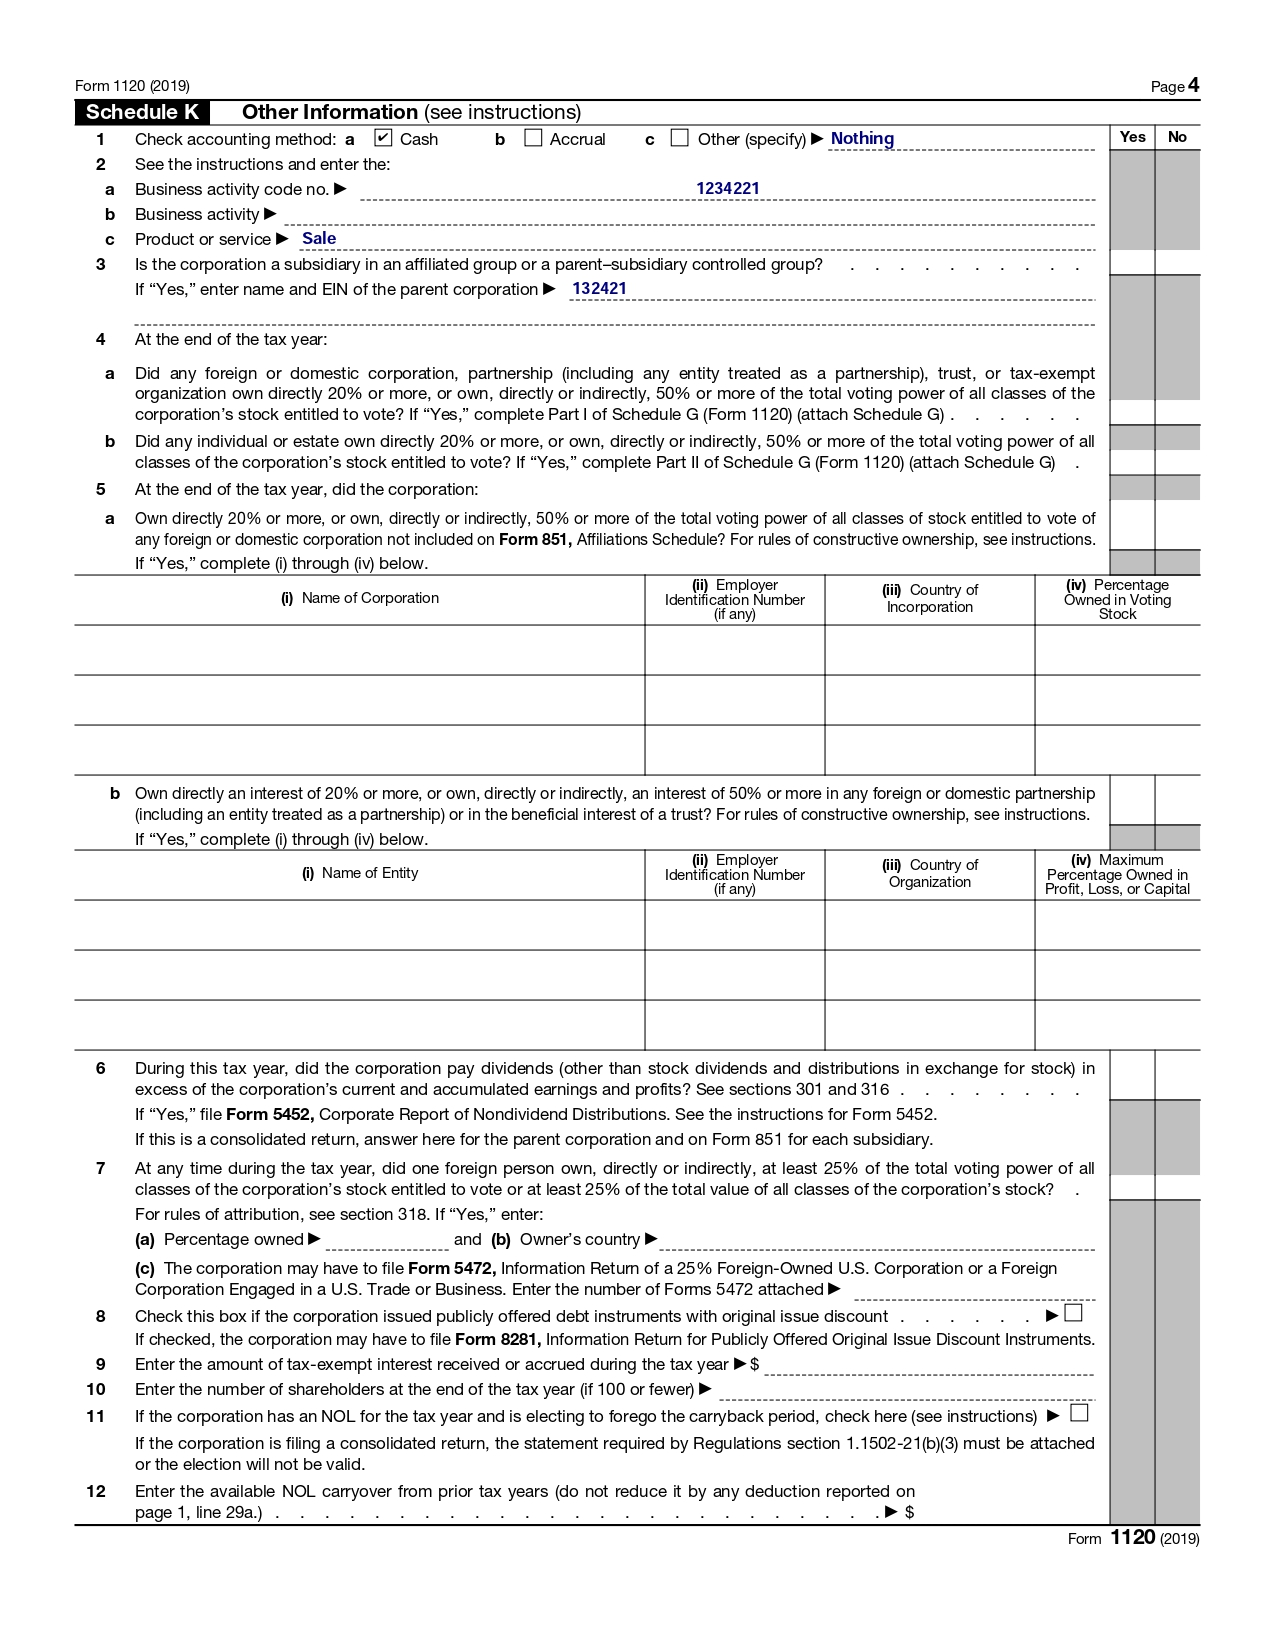table: (78, 1058, 1213, 1529), (80, 125, 1217, 576), (80, 852, 1229, 1054), (82, 575, 1220, 774), (82, 774, 1224, 849)
